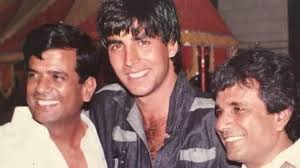Bad: (1, 1, 215, 168), (96, 1, 300, 168)
